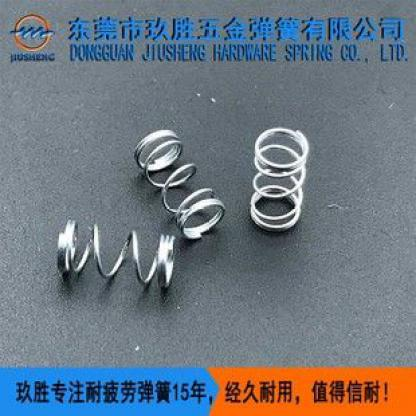FOD: (132, 127, 228, 239), (55, 218, 180, 292), (245, 125, 312, 233)
